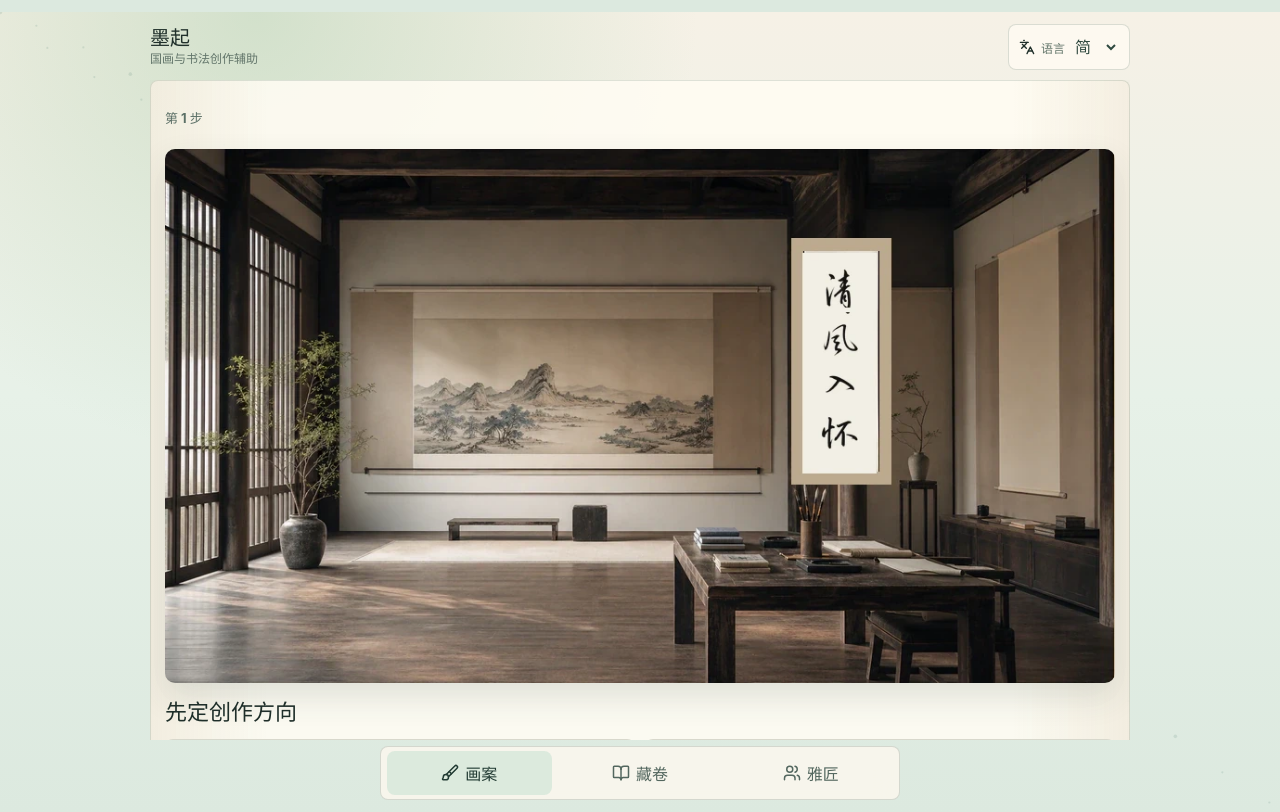
it: App › renders visual previews for options without leaking Chinese preview text in English
Select "EN" in the dropdown labelled "语言": (1095, 47) [1071, 25, 1119, 69]
(page scrolled)
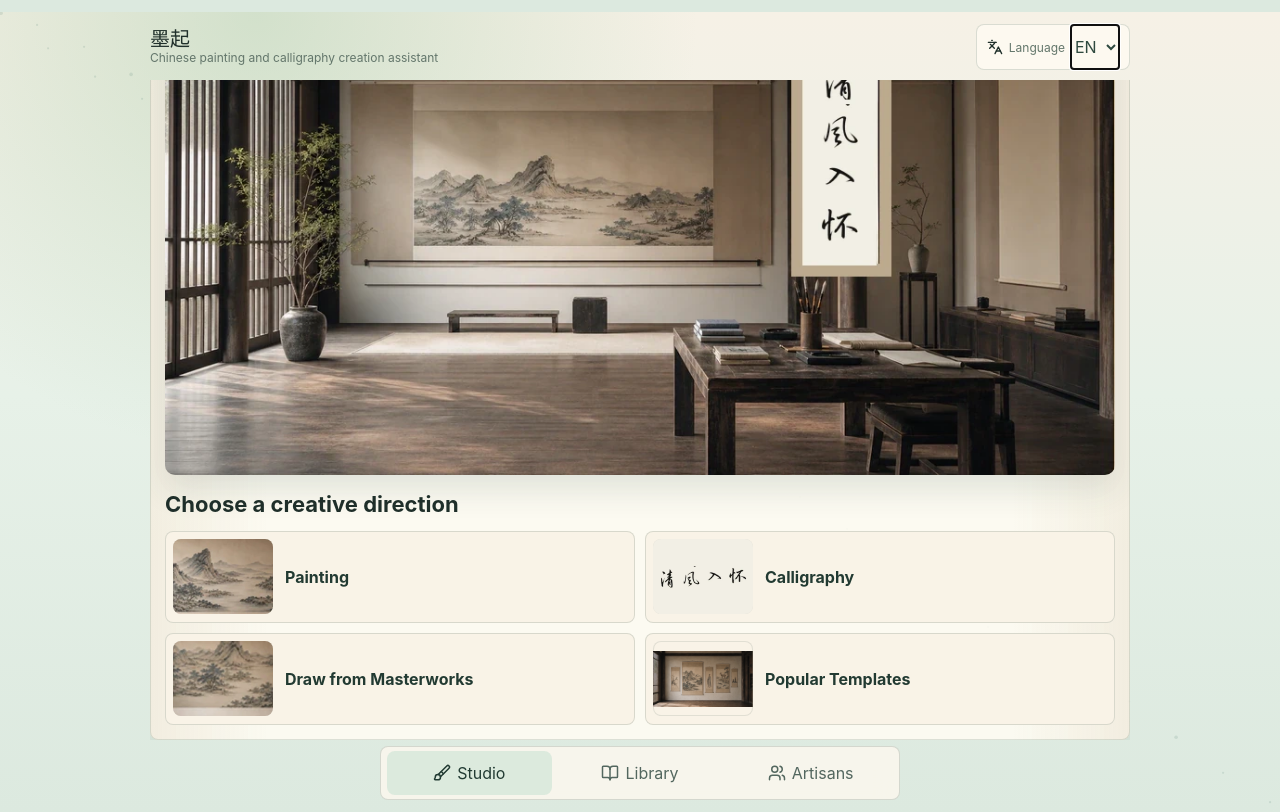
Result: the heading "Choose a creative direction" is shown at [165, 491, 459, 517]
Result: the picture named "Preview the artwork direction" is shown at [165, 80, 1115, 475]
Click the button "Painting": click(223, 577) [165, 531, 635, 623]
(page scrolled)
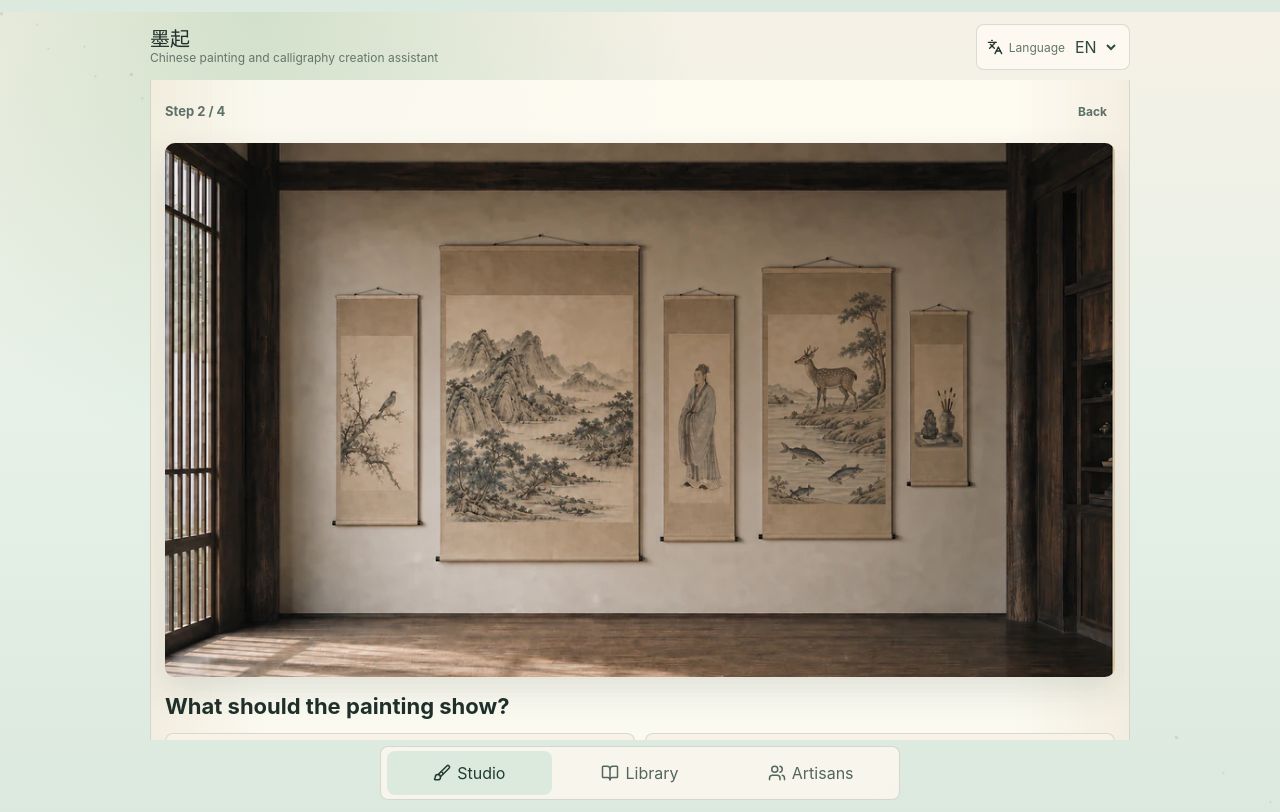
Result: the heading "What should the painting show?" is shown at [165, 693, 510, 719]
Result: the picture named "What should the painting show?" is shown at [165, 143, 1115, 677]
